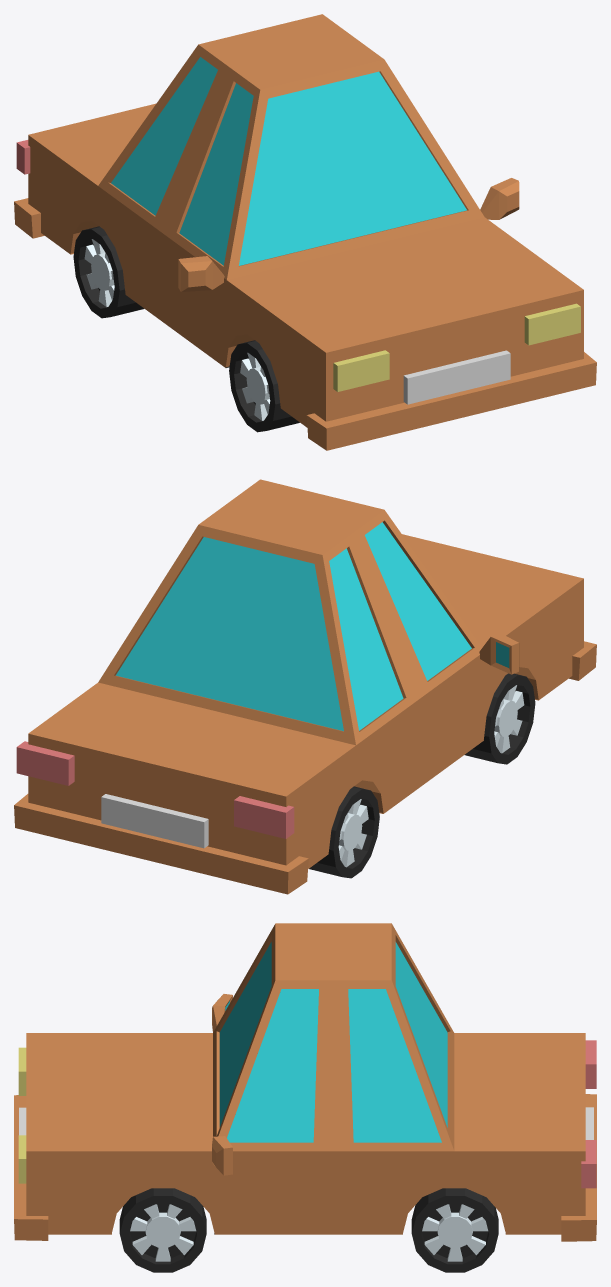
File: Car_01_v1 1.fbx
3 renders of one model, top to bottom at view 1: azimuth 30°, elevation 25°; view 2: azimuth 150°, elevation 25°; view 3: azimuth 270°, elevation 25°, orthographic. The views are drawn at different scales.
Parts seen in each view (by area): view 1: Car_01; view 2: Car_01; view 3: Car_01.
Boxes of the visible parts, x1,y1,x2,y2 form: Car_01: [14, 14, 596, 450]; Car_01: [14, 479, 596, 894]; Car_01: [14, 923, 596, 1272].
Bounding box in the file's own units: 834 × 524 × 412.
